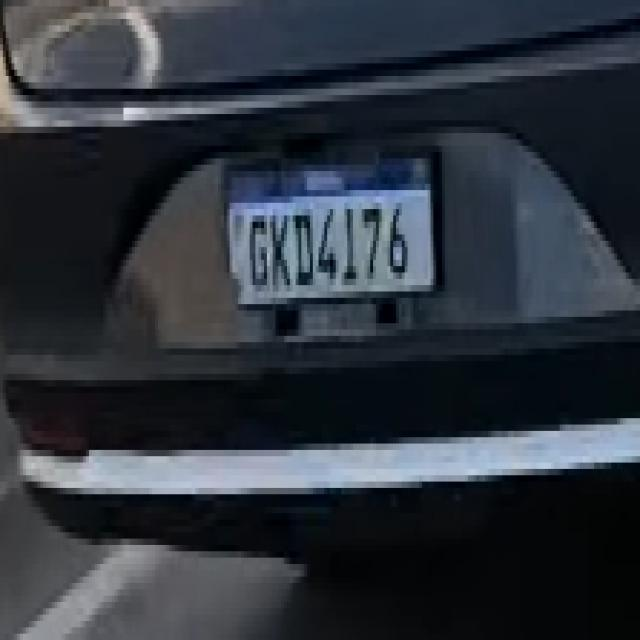Placa_mercosul_carro: (220, 154, 441, 314)
